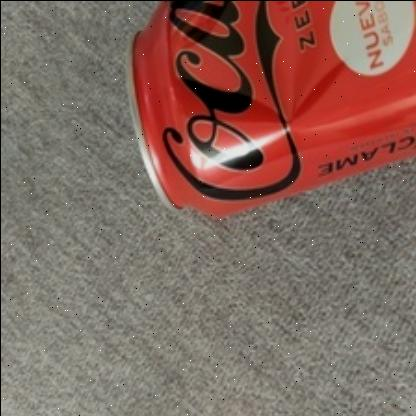Can: (122, 0, 416, 218)
